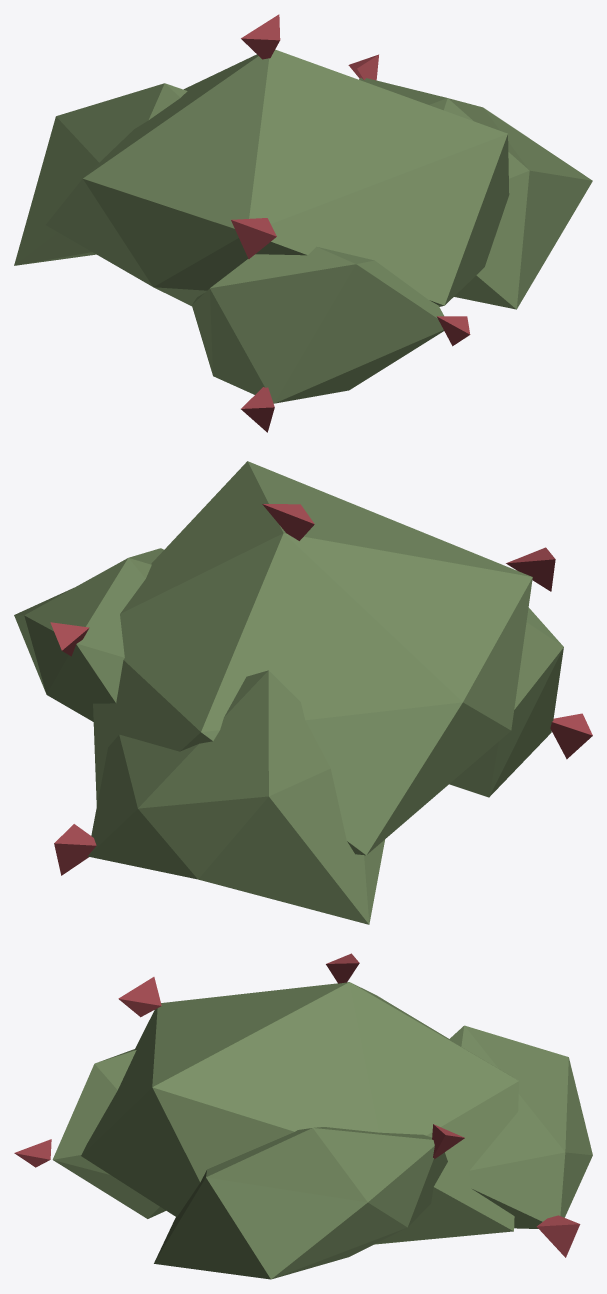
File: bush_8.glb
The picture shows the model from 3 angles, top to bottom: view 1: azimuth 30°, elevation 25°; view 2: azimuth 150°, elevation 25°; view 3: azimuth 270°, elevation 25°; orthographic projection. The views are drawn at different scales.
Parts seen in each view (by area): view 1: bush_8.001; view 2: bush_8.001; view 3: bush_8.001.
Boxes of the visible parts, <box> form: bush_8.001: <box>14,14,592,432</box>; bush_8.001: <box>14,461,592,924</box>; bush_8.001: <box>14,953,592,1279</box>.
Bounding box in the file's own units: 2.43 × 1.58 × 2.78.
